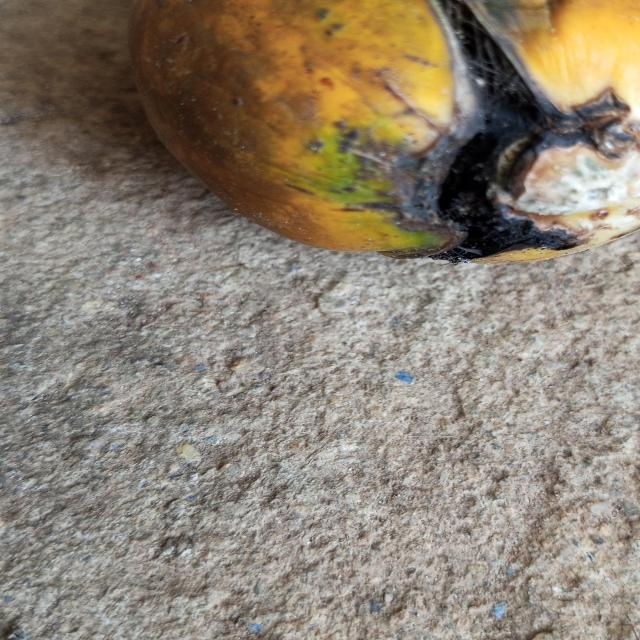damaged: (126, 0, 640, 262)
